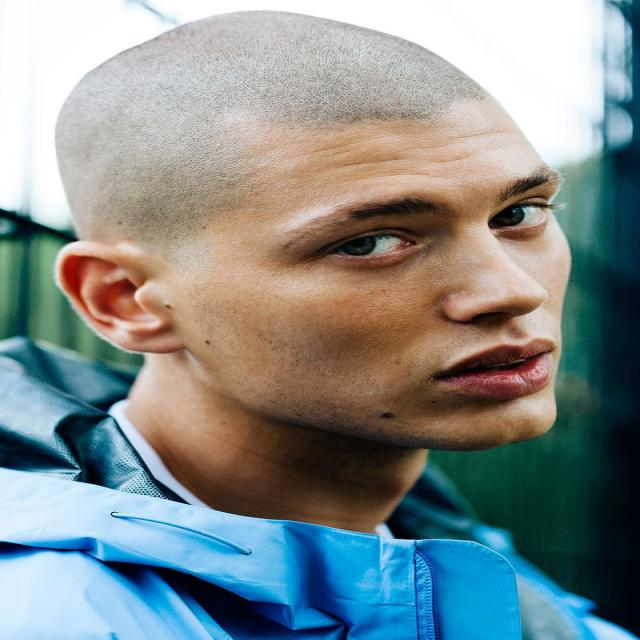no_helmet: (27, 0, 558, 260)
